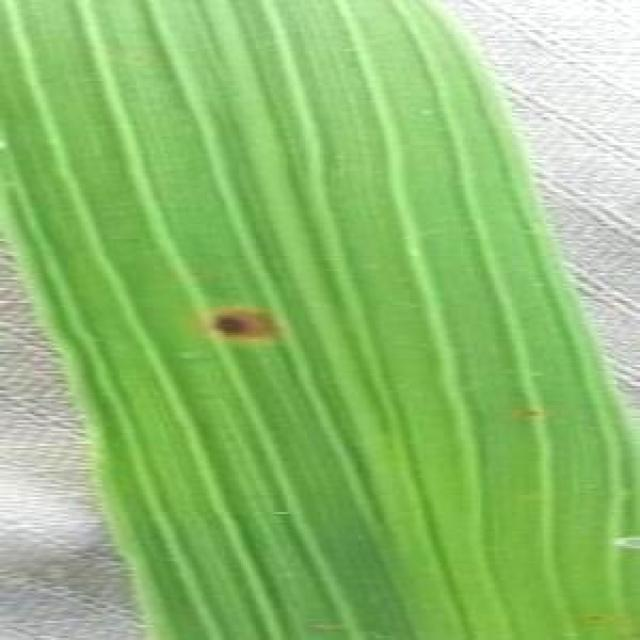Rice_Brownspot: (192, 292, 297, 348), (576, 606, 610, 625), (520, 400, 544, 422)
